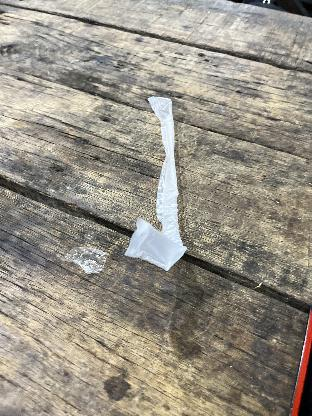Others: (130, 94, 184, 274), (61, 238, 108, 280)
